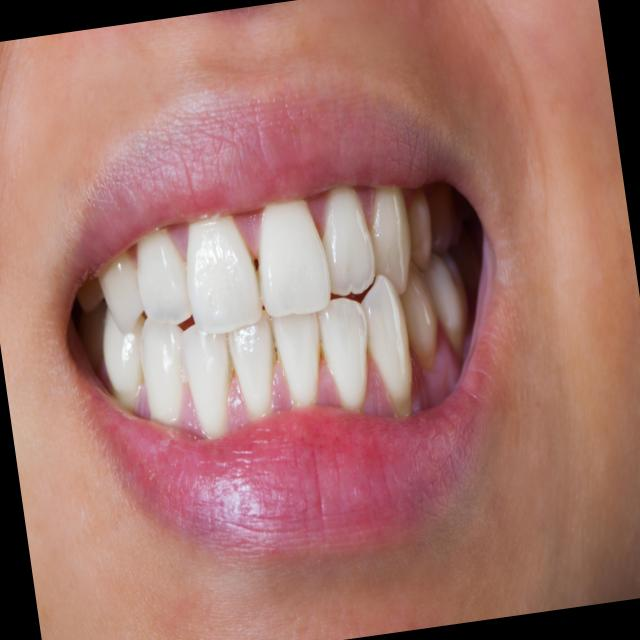Tooth: (187, 215, 263, 333), (258, 200, 331, 317), (361, 275, 413, 417), (180, 323, 234, 438), (321, 185, 375, 296), (317, 297, 368, 411), (227, 310, 277, 418), (421, 249, 469, 361), (138, 229, 192, 324), (140, 317, 184, 424), (270, 312, 319, 406), (370, 187, 411, 296), (103, 306, 146, 409), (400, 260, 438, 370), (98, 250, 144, 333), (407, 193, 432, 269), (430, 201, 453, 252)
